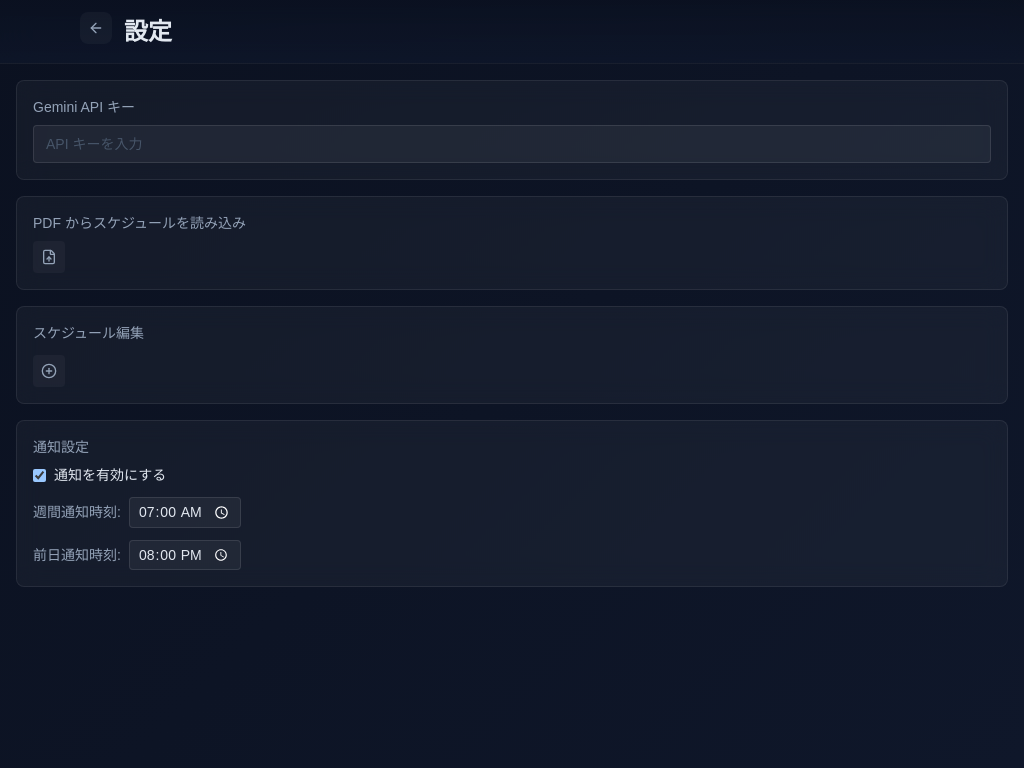
Test case: Settings - トースト通知 › APIキー自動保存時にトースト通知が表示される
Type "test-key" into the password field with placeholder "API キーを入力" at [512, 144], box [33,125,991,163]
Wait 500 ms
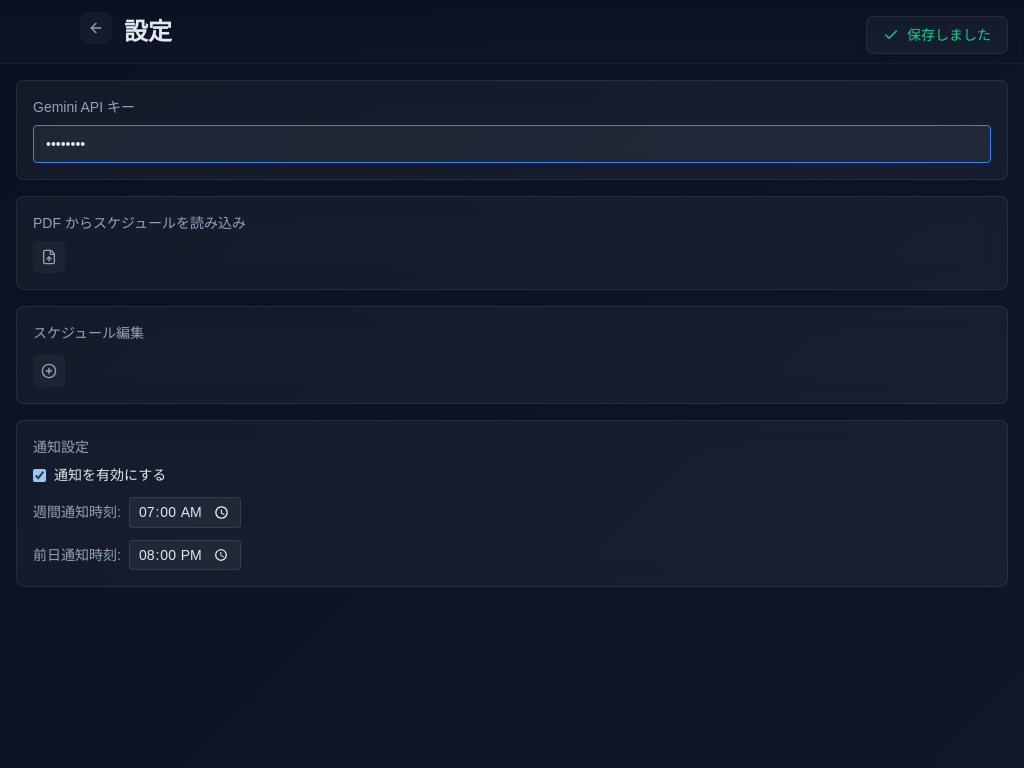
Now the text "保存しました" is shown, box [907,25,991,45]
